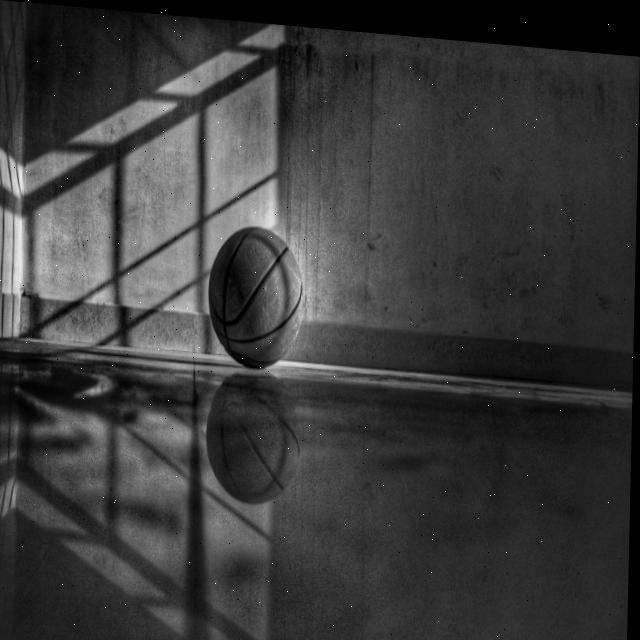Basketball: (207, 220, 305, 375)
